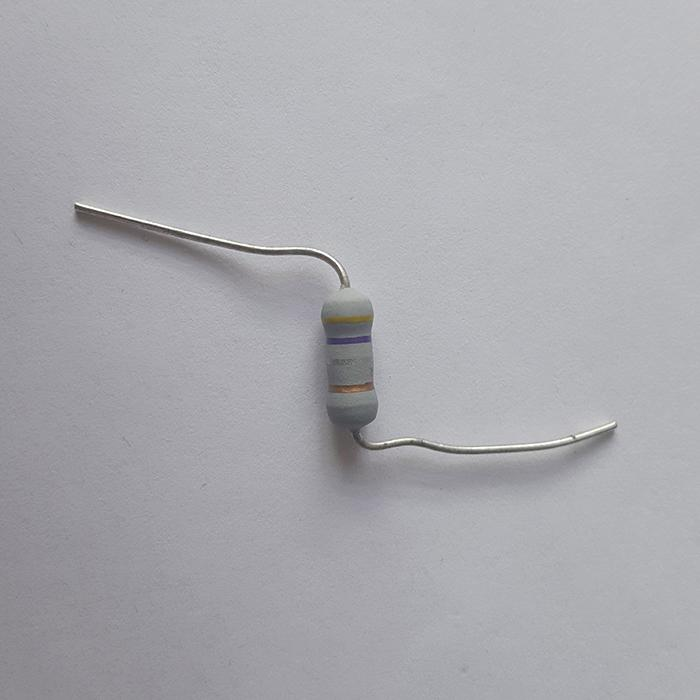resistor: (320, 284, 379, 432)
